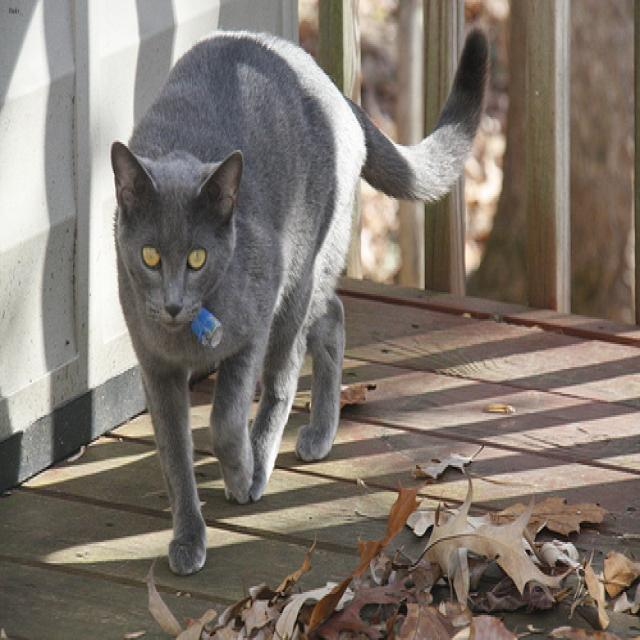Russian_Blue: (109, 138, 241, 329)
